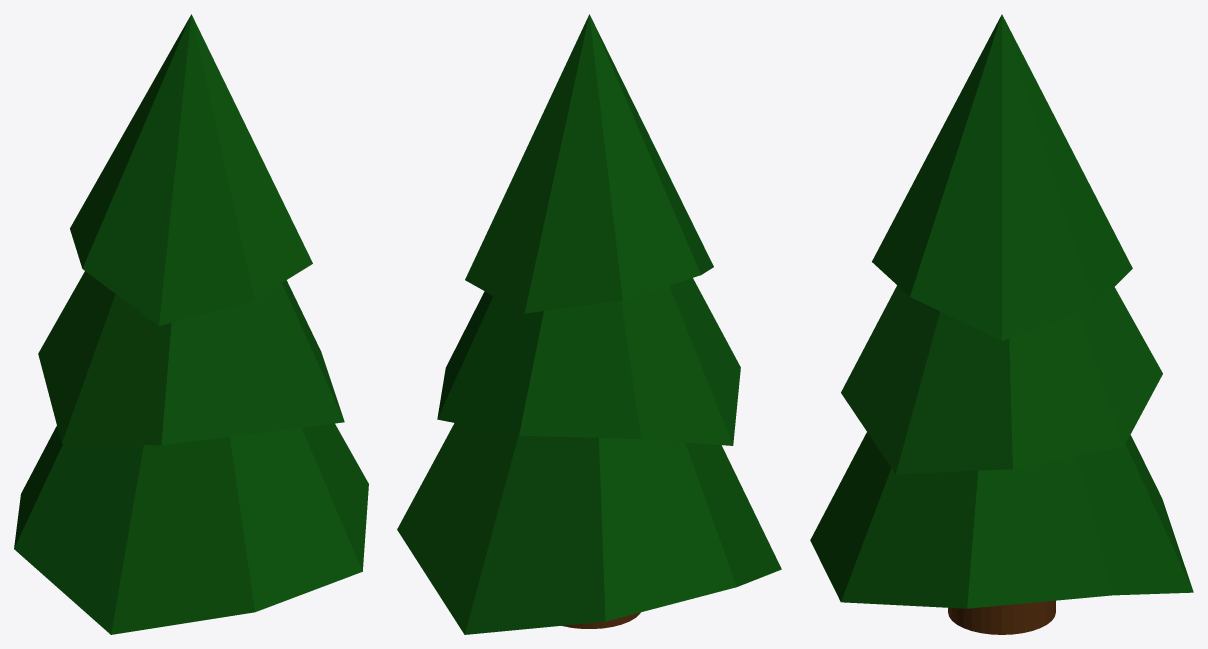
File: waka_tree.fbx
3 renders of one model, left to right at view 1: azimuth 30°, elevation 25°; view 2: azimuth 150°, elevation 25°; view 3: azimuth 270°, elevation 25°, orthographic. The views are drawn at different scales.
Parts seen in each view (by area): view 1: 円錐; view 2: 円錐; view 3: 円錐.
Part boxes in pixels (x1,y1,x2,y2): 円錐: (14, 14, 368, 634); 円錐: (397, 14, 781, 634); 円錐: (810, 14, 1193, 634).
Bounding box in the file's own units: 295 × 507 × 295.
